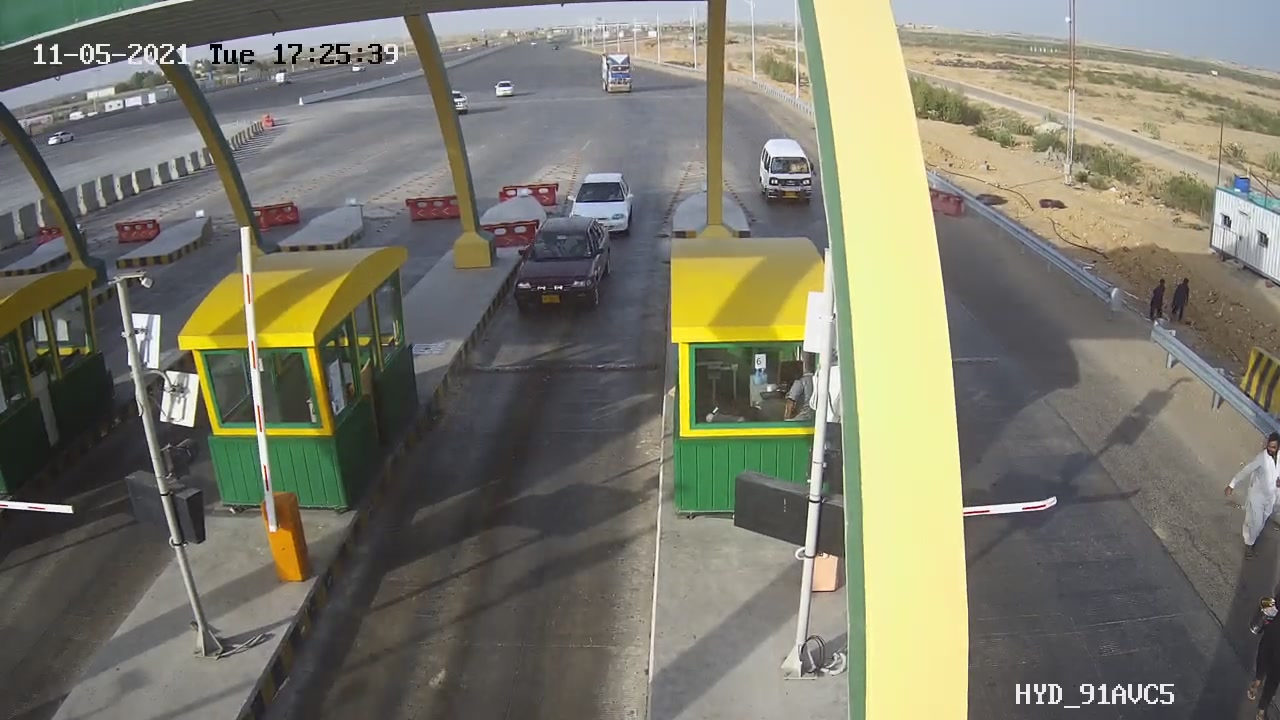F1: (501, 207, 625, 336)
